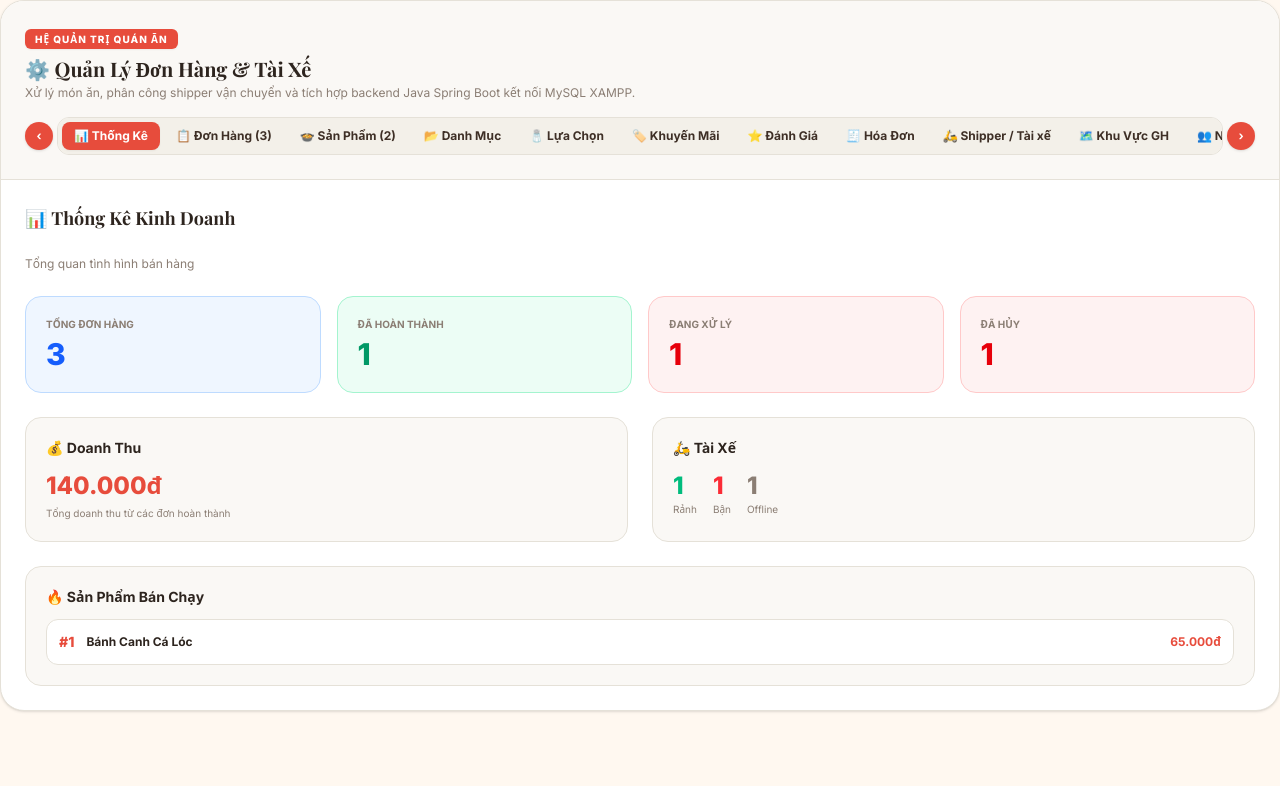
Scenario: AdminDashboard › Products tab › shows available badge for in-stock products
The image size is (1280, 786).
Click the button "🍲 Sản Phẩm (2)" at (348, 136), box [288,122,408,150]
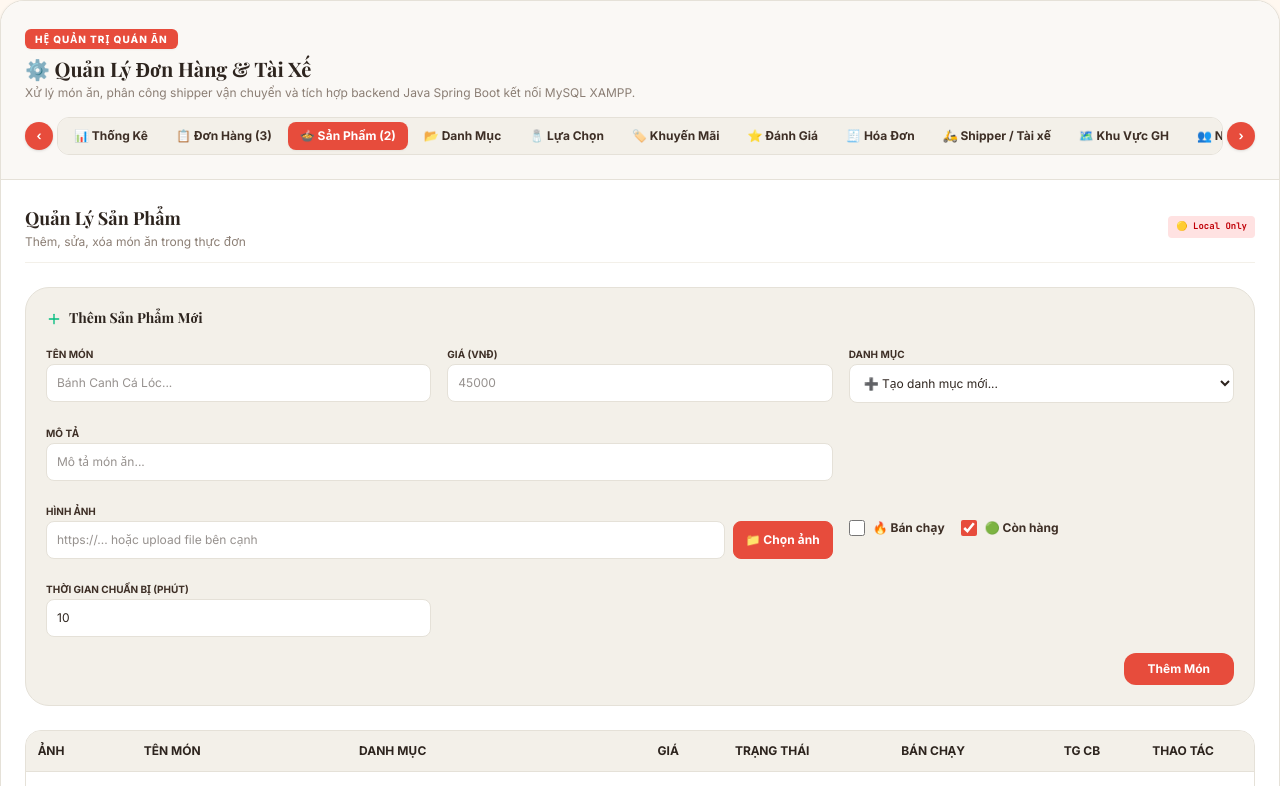
Result: the text "🟢 Còn hàng" is shown at [985,520,1059,536]
